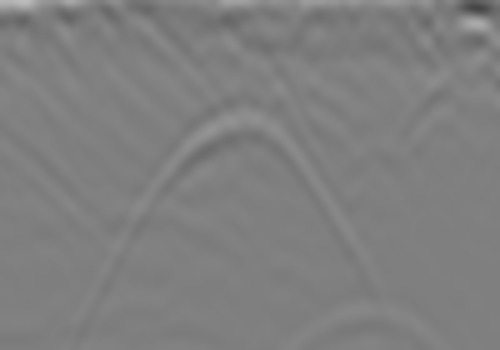hyperbola: (80, 103, 387, 288)
